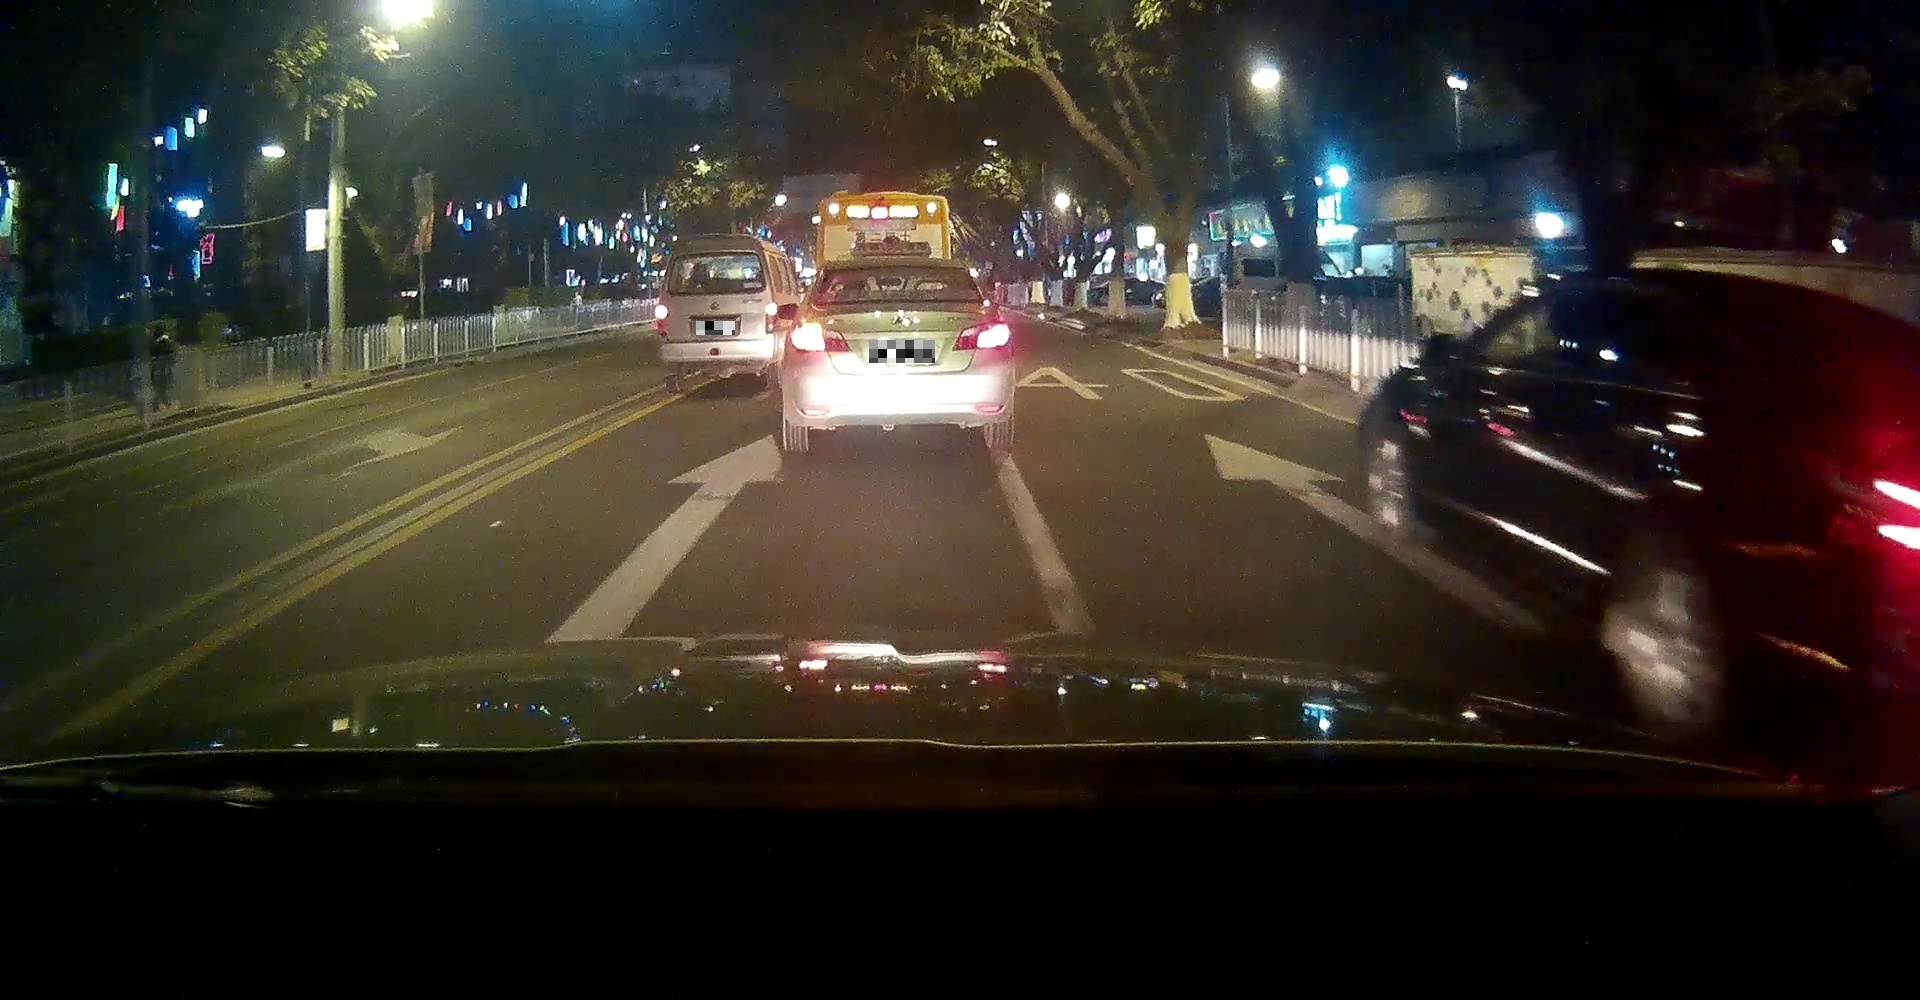L_light: (790, 322, 853, 354), (653, 301, 670, 340)
R_light: (951, 310, 1012, 352), (764, 299, 778, 340)
T_light: (875, 261, 913, 266), (698, 249, 715, 256)
night-no: (780, 255, 1015, 449), (653, 234, 780, 392)
plate_1: (696, 321, 735, 335)
plate_2: (869, 340, 935, 363)
